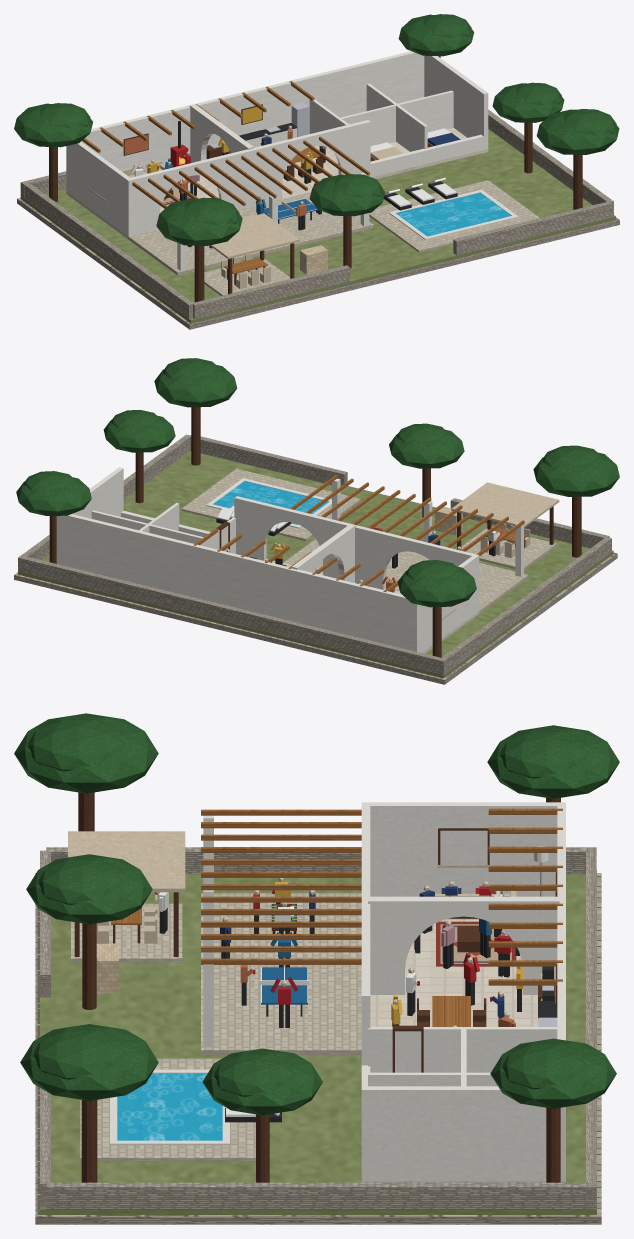
The model's file is villa2_marinezzi.glb.
3 renders of one model, top to bottom at view 1: azimuth 30°, elevation 25°; view 2: azimuth 150°, elevation 25°; view 3: azimuth 270°, elevation 25°, orthographic. The views are drawn at different scales.
Visible parts, largest first — view 1: Base_Terrain, Wall_N, Base_Trim, Front_Arch_Lounge, Front_Arch_Dining, Wall_W, Game_Veranda_Floor, Wall_DryW, Wall_E, Wall_DryS2, Wall_DryS1, Mar_Pool_deck (+33 smaller); view 2: Wall_N, Base_Terrain, Wall_DryN, Base_Trim, Front_Arch_Dining, Wall_DryW, Front_Arch_Lounge, Gazebo_Roof, Pine_1_can0, Wall_DryS2, Pine_3_can0, Mar_Pool_deck (+26 smaller); view 3: Base_Terrain, Wall_E, Game_Veranda_Floor, Wall_DryE, Wall_W, Inner_Arch_Wall, Base_Trim, Bed_Sep_V, Villa_Floor, Mar_Pool_water, Pine_1_can0, Gazebo_Roof (+43 smaller).
Boxes of the visible parts, left/top/right/bottom form: Base_Terrain: left=20, top=129, right=615, bottom=323; Wall_N: left=66, top=51, right=424, bottom=192; Base_Trim: left=17, top=197, right=619, bottom=329; Front_Arch_Lounge: left=126, top=149, right=252, bottom=236; Front_Arch_Dining: left=251, top=120, right=370, bottom=205; Wall_W: left=69, top=142, right=129, bottom=234; Game_Veranda_Floor: left=129, top=192, right=373, bottom=272; Wall_DryW: left=23, top=182, right=194, bottom=318; Wall_E: left=424, top=55, right=488, bottom=149; Wall_DryS2: left=453, top=202, right=611, bottom=255; Wall_DryS1: left=193, top=265, right=350, bottom=319; Mar_Pool_deck: left=369, top=180, right=539, bottom=250; Wall_N: left=56, top=514, right=419, bottom=651; Base_Terrain: left=18, top=451, right=613, bottom=678; Wall_DryN: left=18, top=556, right=446, bottom=675; Base_Trim: left=14, top=552, right=617, bottom=684; Front_Arch_Dining: left=234, top=496, right=354, bottom=578; Wall_DryW: left=440, top=537, right=611, bottom=672; Front_Arch_Lounge: left=355, top=525, right=479, bottom=611; Gazebo_Roof: left=451, top=482, right=559, bottom=527; Pine_1_can0: left=533, top=452, right=619, bottom=496; Wall_DryS2: left=190, top=435, right=347, bottom=485; Pine_3_can0: left=154, top=365, right=237, bottom=407; Mar_Pool_deck: left=182, top=468, right=360, bottom=538; Base_Terrain: left=40, top=870, right=596, bottom=1214; Wall_E: left=361, top=1086, right=546, bottom=1181; Game_Veranda_Floor: left=201, top=893, right=361, bottom=1050; Wall_DryE: left=46, top=1182, right=590, bottom=1209; Wall_W: left=370, top=802, right=565, bottom=896; Inner_Arch_Wall: left=368, top=896, right=559, bottom=994; Base_Trim: left=35, top=873, right=601, bottom=1224; Bed_Sep_V: left=368, top=1027, right=557, bottom=1072; Villa_Floor: left=370, top=919, right=538, bottom=1026; Mar_Pool_water: left=117, top=1073, right=222, bottom=1140; Pine_1_can0: left=14, top=713, right=158, bottom=793; Gazebo_Roof: left=68, top=831, right=185, bottom=892.
Size of the model in its own units: 27.57 by 6.4 by 19.58.
24 materials, 24 textured.
